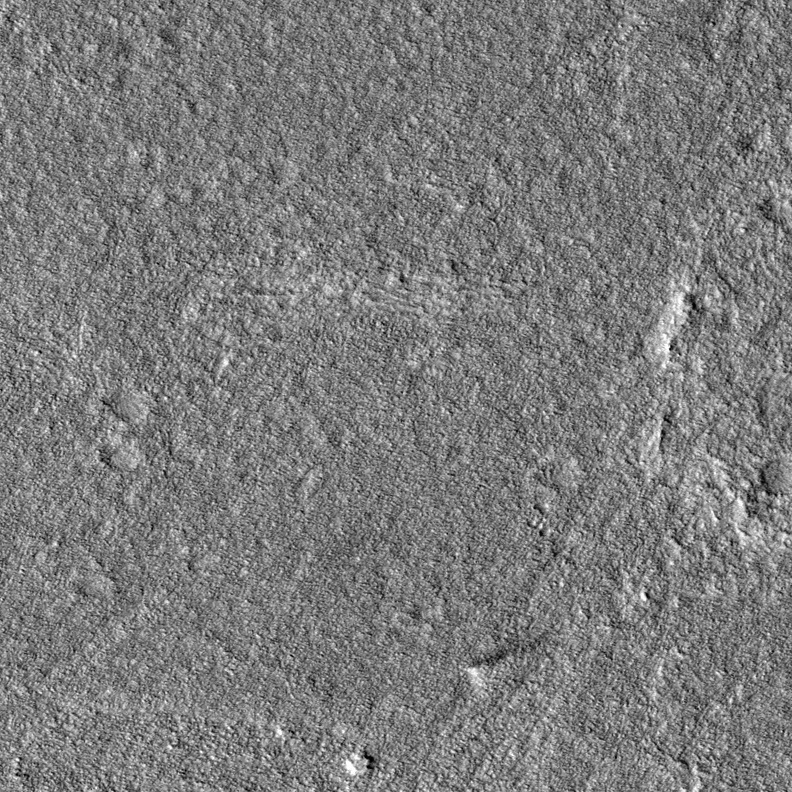dust_devil: (463, 629, 551, 702)
